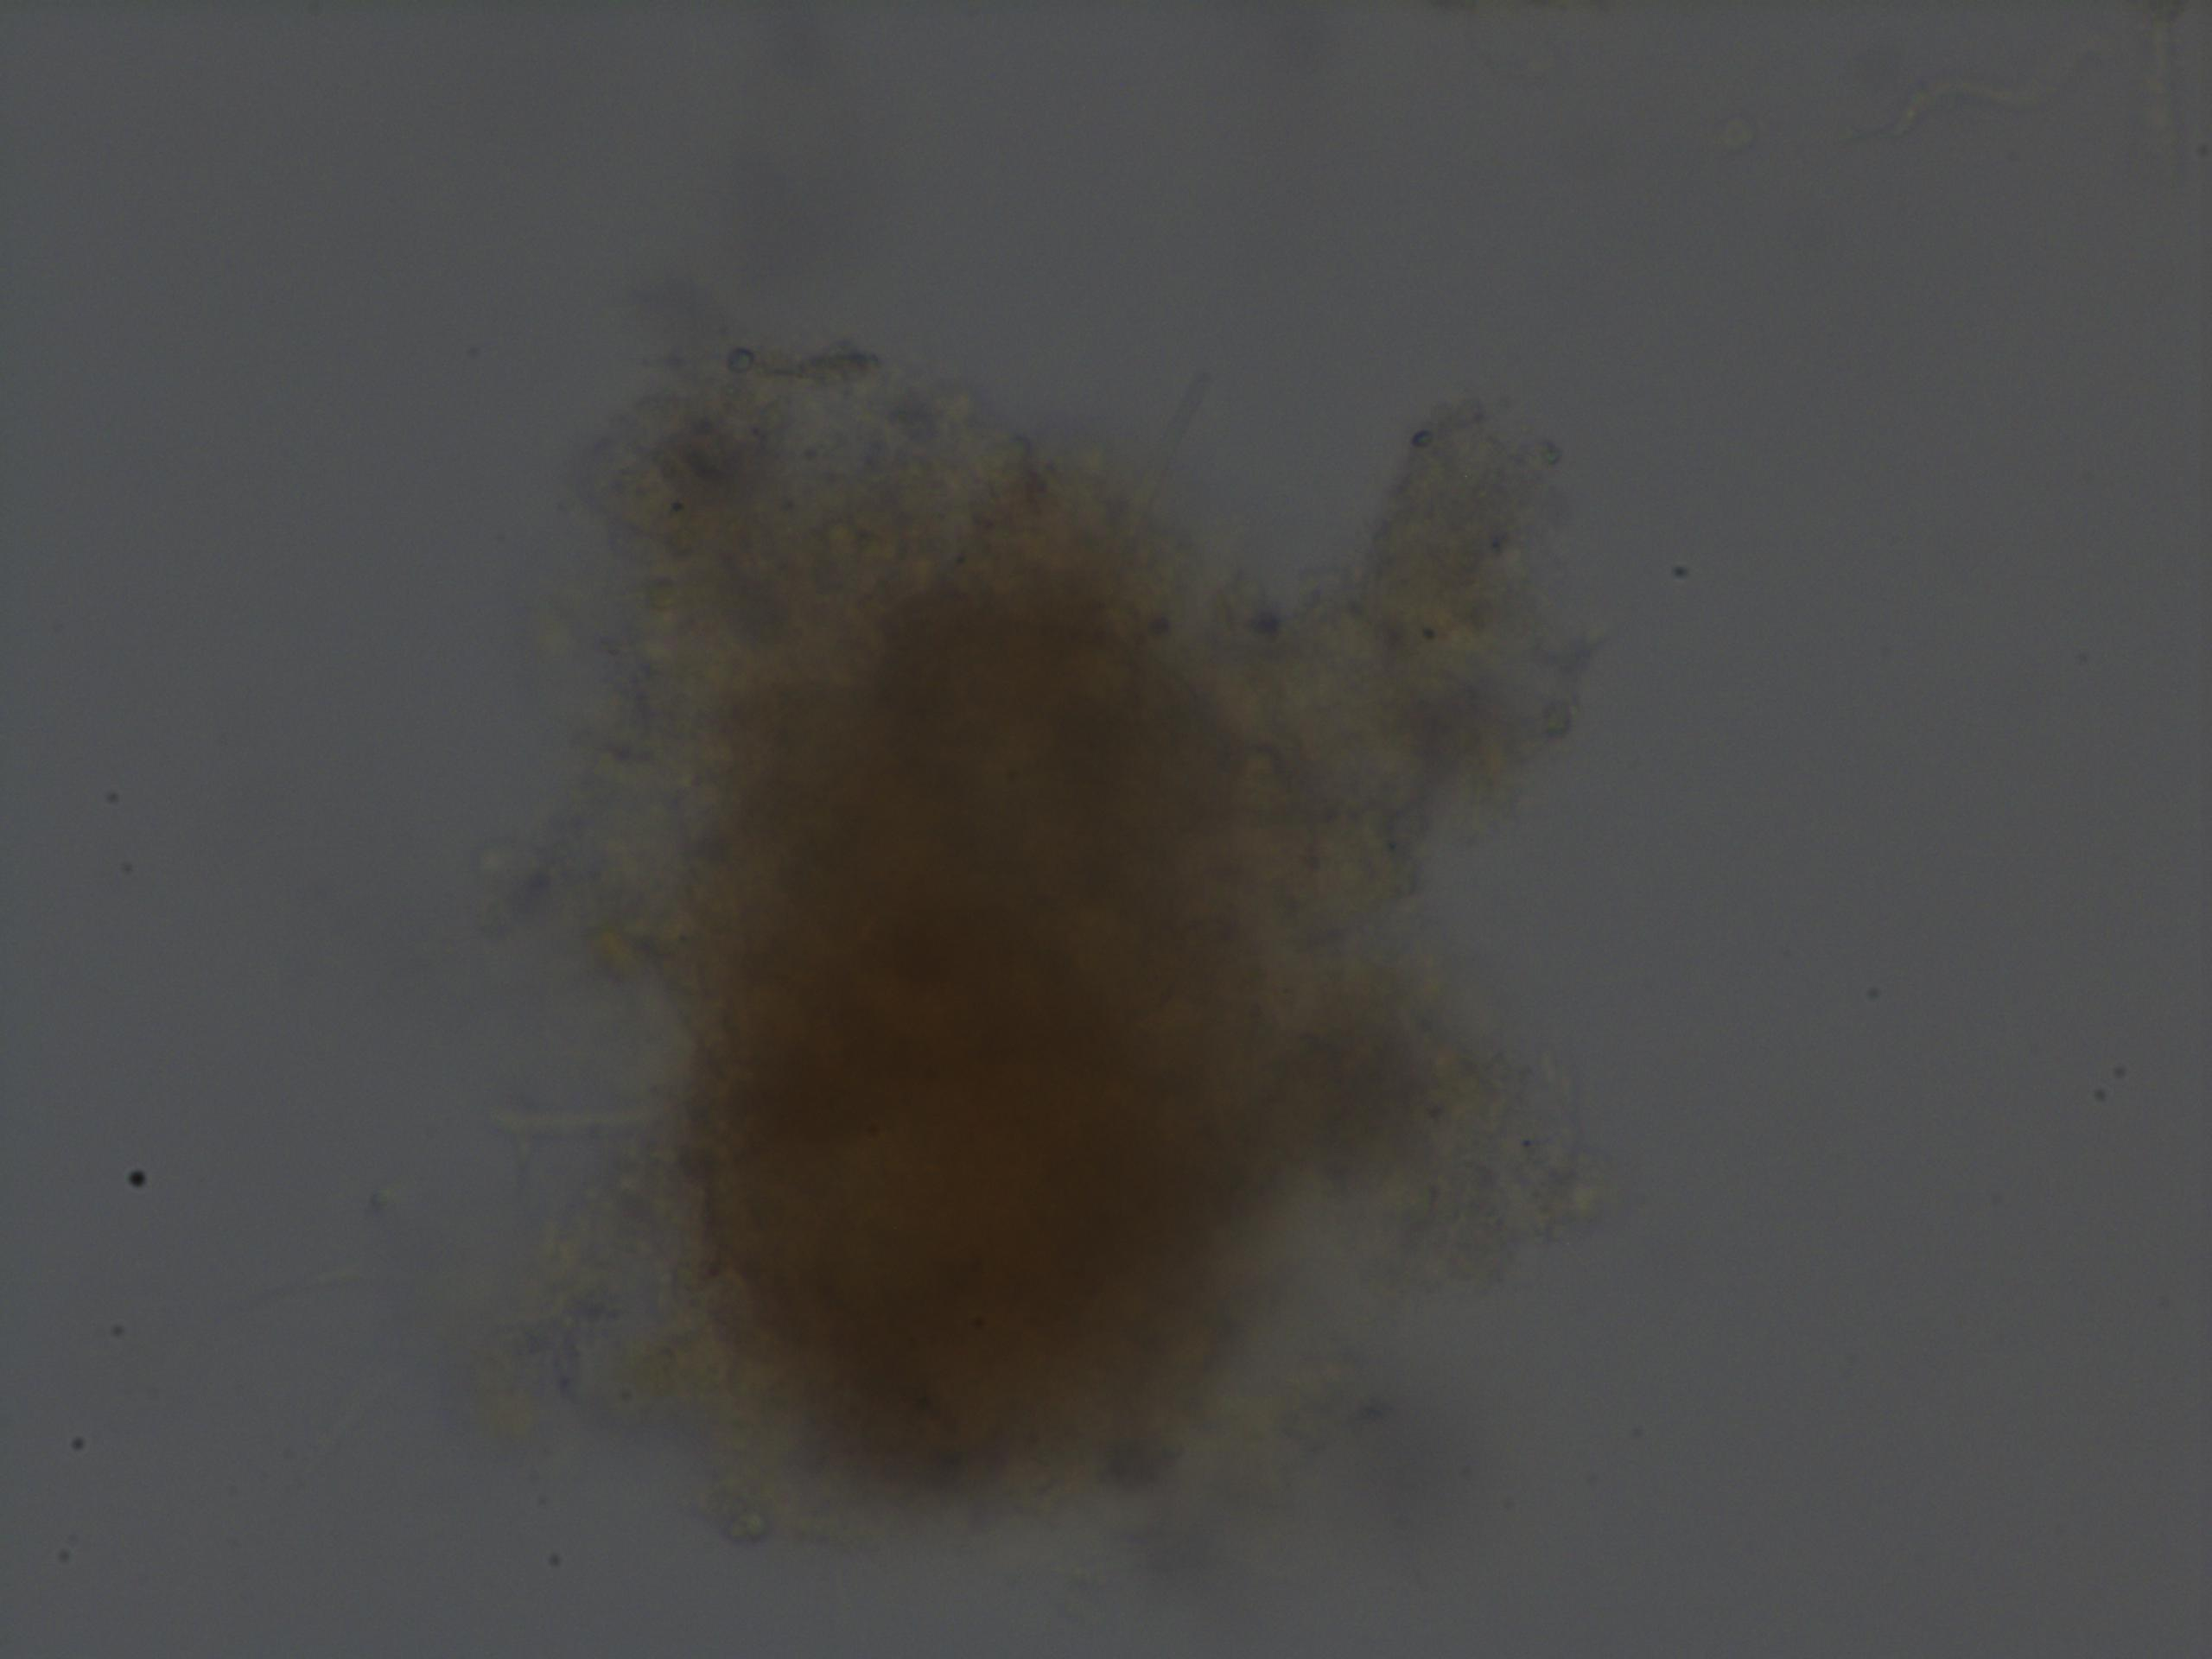spherical_floc: (554, 490, 1440, 1546)
